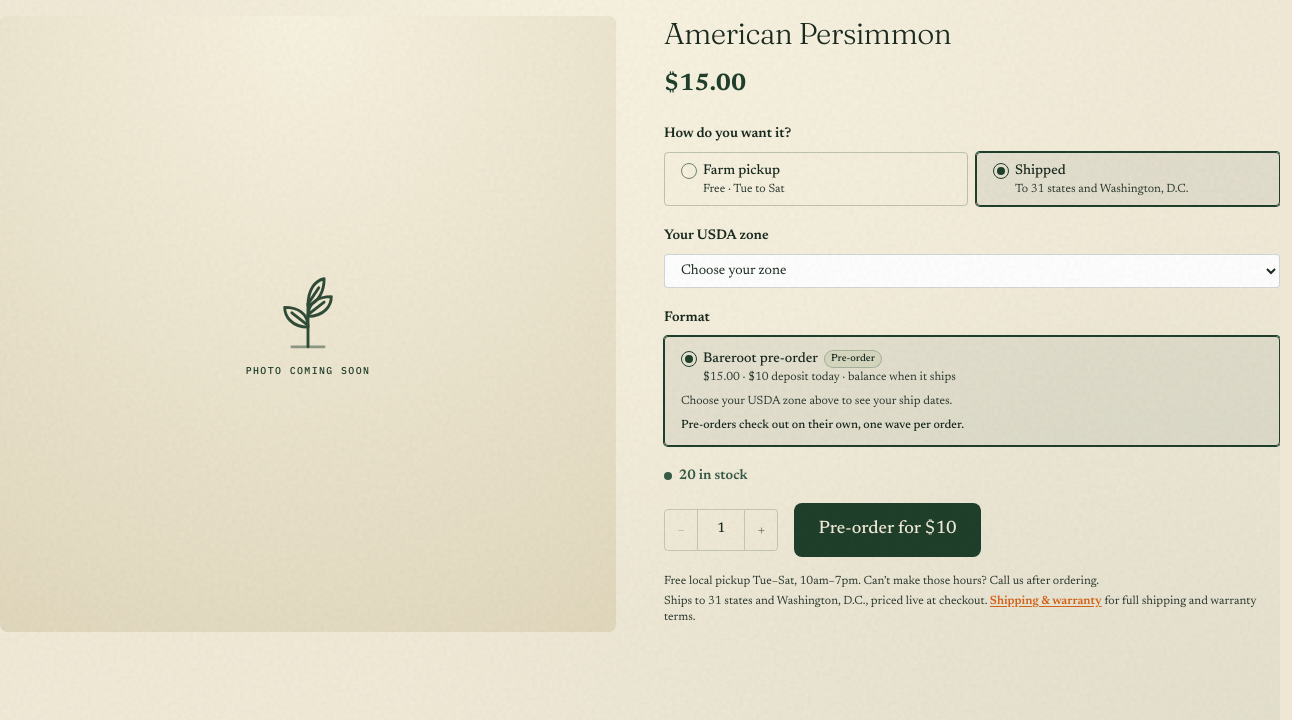
Test: ProductView: Farm pickup / Shipped gate › Oct 7 Farm pickup, formatless bareroot (#91): pickup waves shown
The image size is (1292, 720).
Click the button "Farm pickup Free · Tue to Sat": [742, 171] box [664, 152, 968, 206]
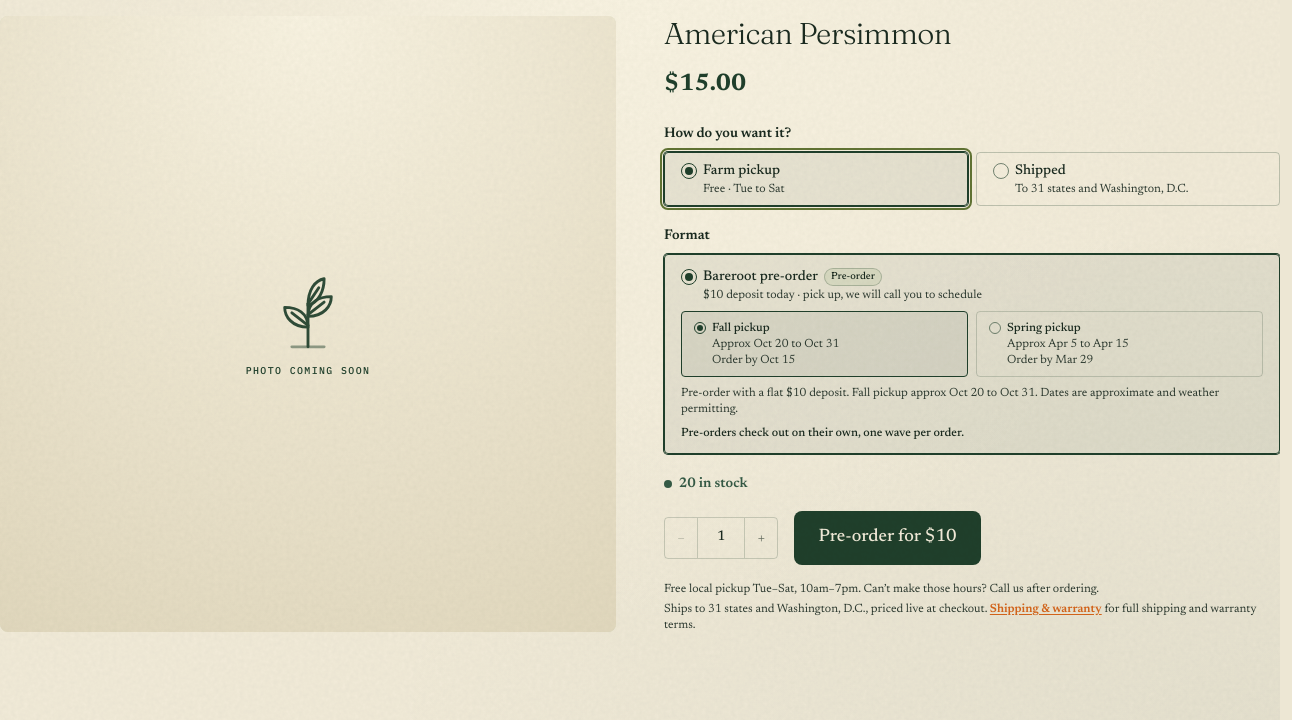
Result: the button "Fall pickup Approx Oct 20 to Oct 31 Order by Oct 15" is shown at [681, 311, 968, 377]
